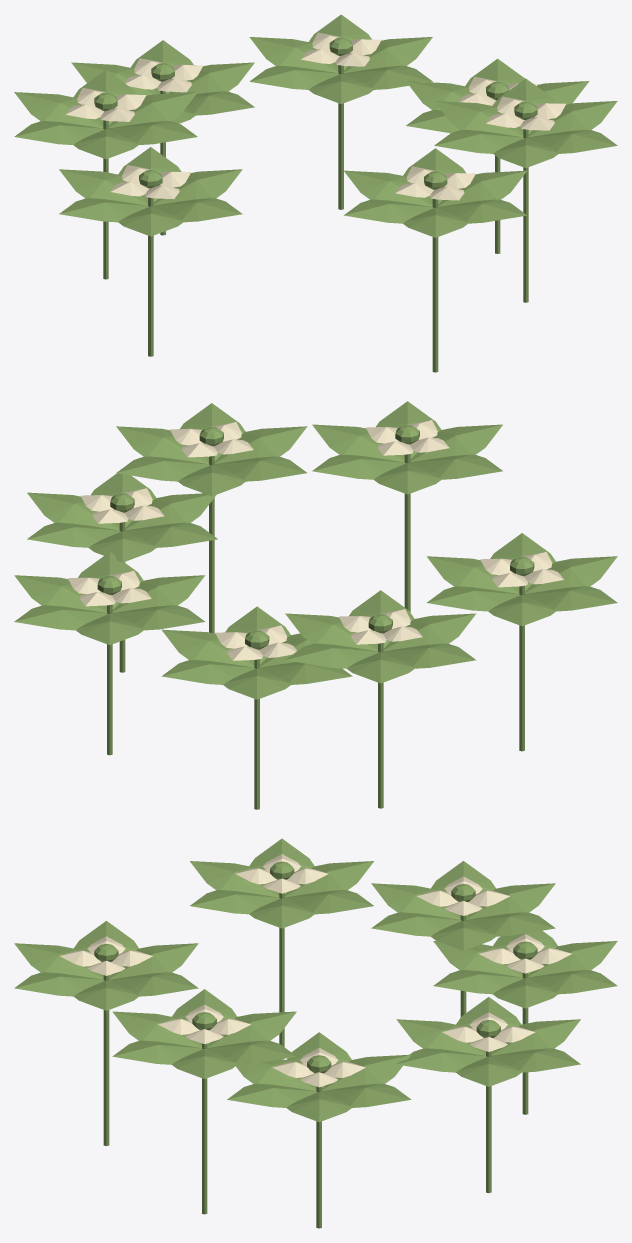
3 views of the same model, one above another, from view 1: azimuth 30°, elevation 25°; view 2: azimuth 150°, elevation 25°; view 3: azimuth 270°, elevation 25° (orthographic). The views are drawn at different scales.
Parts seen in each view (by area): view 1: WW-528 White bracted bunchberry colony batched; view 2: WW-528 White bracted bunchberry colony batched; view 3: WW-528 White bracted bunchberry colony batched.
Part boxes in pixels (box(x1,y1,x2,y2)): WW-528 White bracted bunchberry colony batched: box(14, 14, 617, 372); WW-528 White bracted bunchberry colony batched: box(14, 401, 617, 809); WW-528 White bracted bunchberry colony batched: box(14, 838, 617, 1228).
Size of the model in its own units: 0.5969 by 0.206 by 0.5656.
